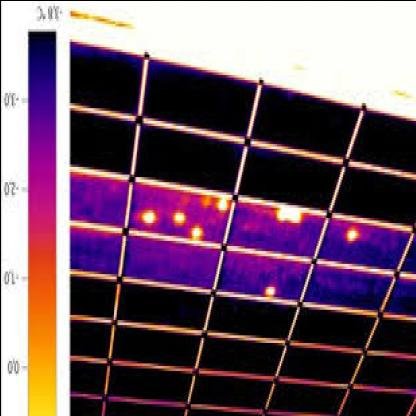Defects: (275, 204, 299, 227), (139, 207, 154, 227), (171, 209, 183, 225), (190, 224, 200, 242), (264, 283, 276, 296), (346, 227, 355, 243), (216, 196, 226, 206)
